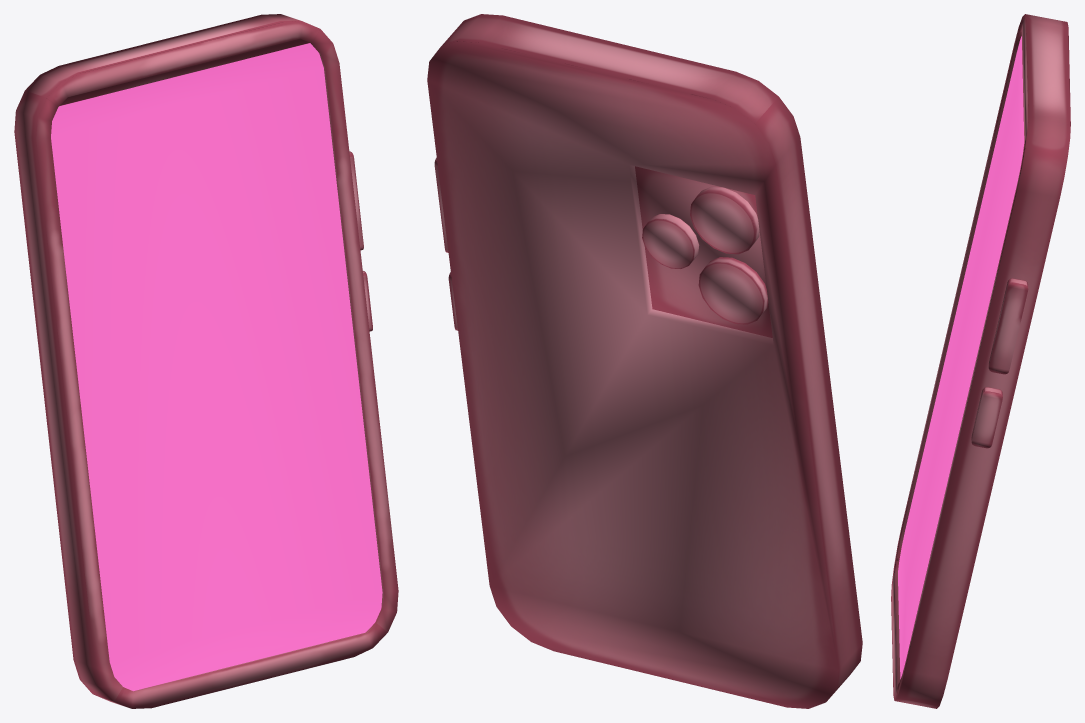
File: Telefoon.glb
The picture shows the model from 3 angles, left to right: view 1: azimuth 30°, elevation 25°; view 2: azimuth 150°, elevation 25°; view 3: azimuth 270°, elevation 25°; orthographic projection. The views are drawn at different scales.
Parts seen in each view (by area): view 1: Phone; view 2: Phone; view 3: Phone.
Boxes of the visible parts, box(x1,y1,x2,y2) form: Phone: box(14, 14, 398, 708); Phone: box(427, 14, 862, 708); Phone: box(891, 14, 1070, 708).
Bounding box in the file's own units: 0.0828 × 0.1489 × 0.0414.
2 materials, 1 textured.
